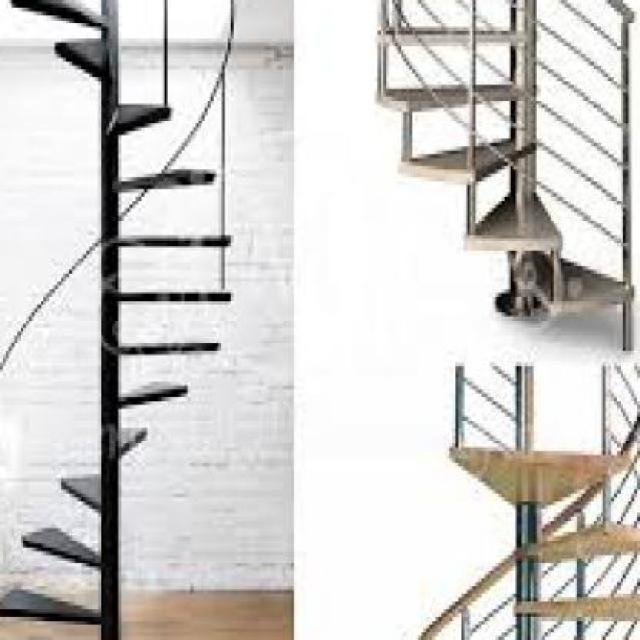stair: (0, 0, 243, 637), (332, 0, 638, 340)
